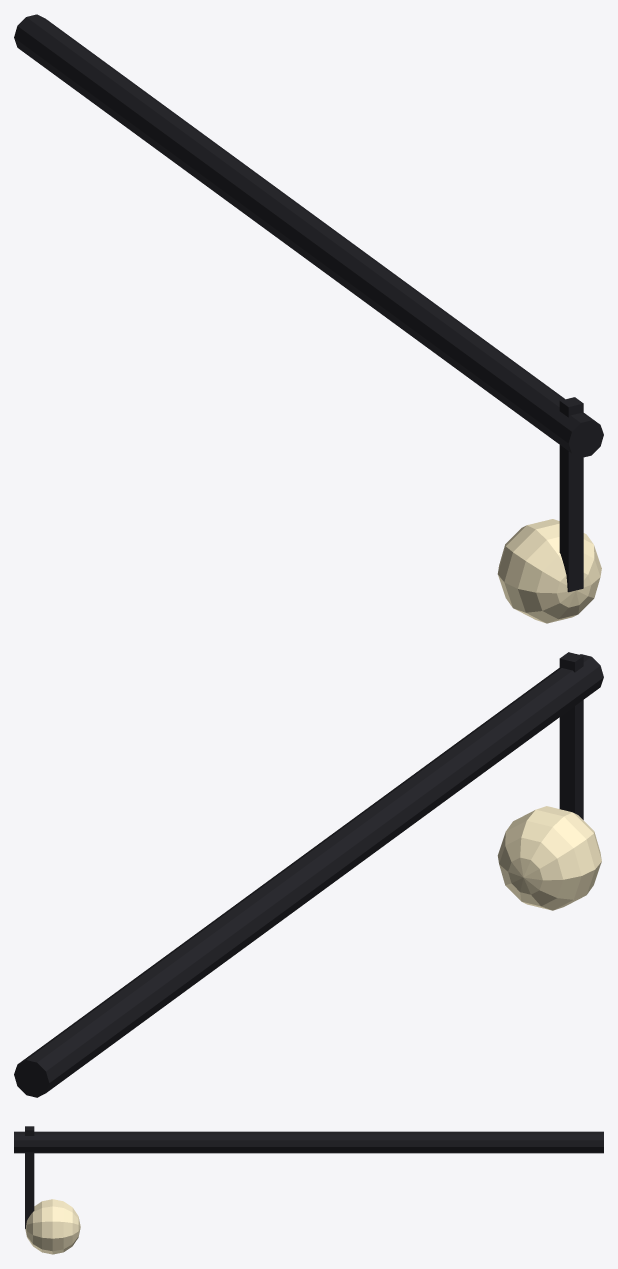
File: entorno_postes.obj
3 renders of one model, top to bottom at view 1: azimuth 30°, elevation 25°; view 2: azimuth 150°, elevation 25°; view 3: azimuth 270°, elevation 25°, orthographic. The views are drawn at different scales.
Visible parts, largest first — view 1: Export_Faroles; view 2: Export_Faroles; view 3: Export_Faroles.
Part boxes in pixels (x1,y1,x2,y2): Export_Faroles: (14,14,603,623); Export_Faroles: (14,652,603,1097); Export_Faroles: (14,1126,603,1254).
Bounding box in the file's own units: 0.36 × 0.8712 × 3.8.
